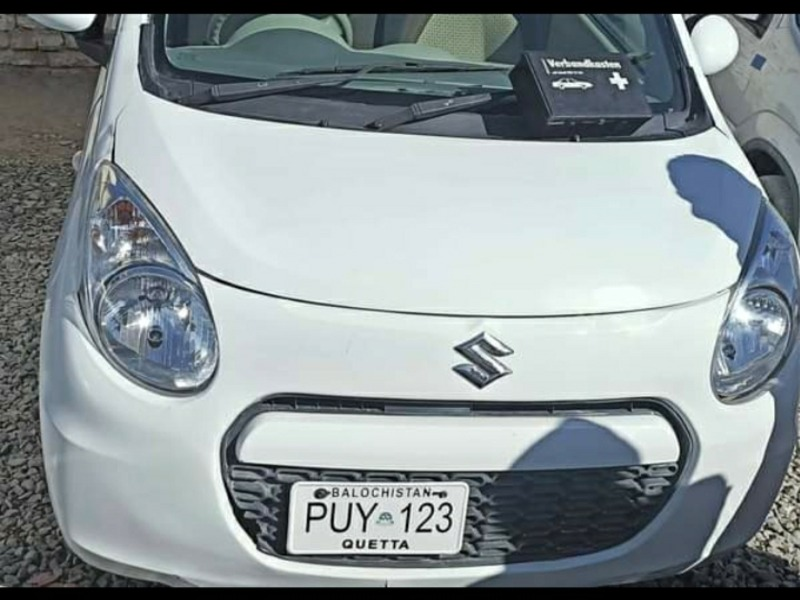License Plate: (281, 477, 469, 563)
